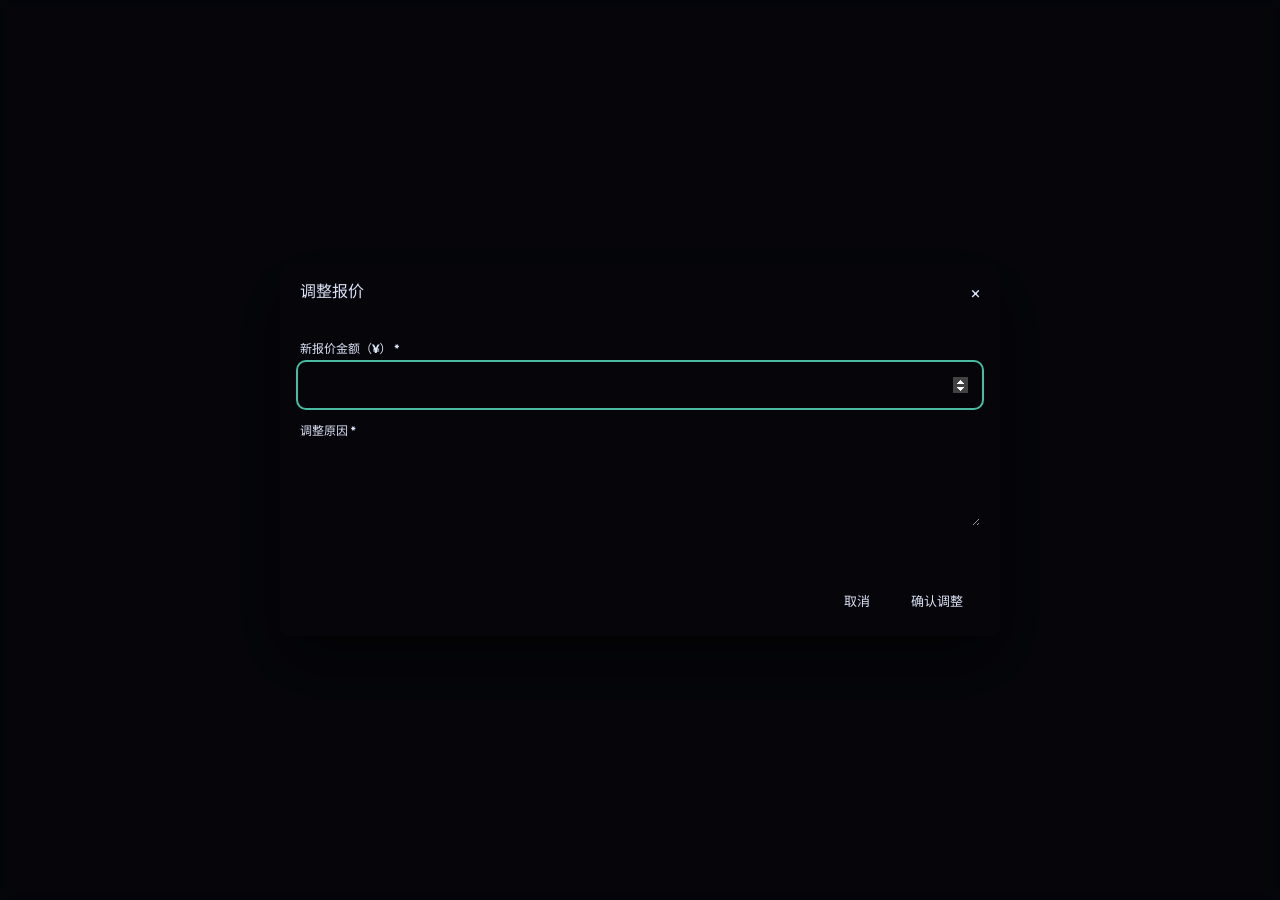
Test case: QuoteChangeDialog › 填写金额但空原因 → 显示"请填写调整原因"
Type "9000" into the number field labelled "新报价金额（¥） *".
click(640, 385); type("9000")  # box [300,364,980,406]
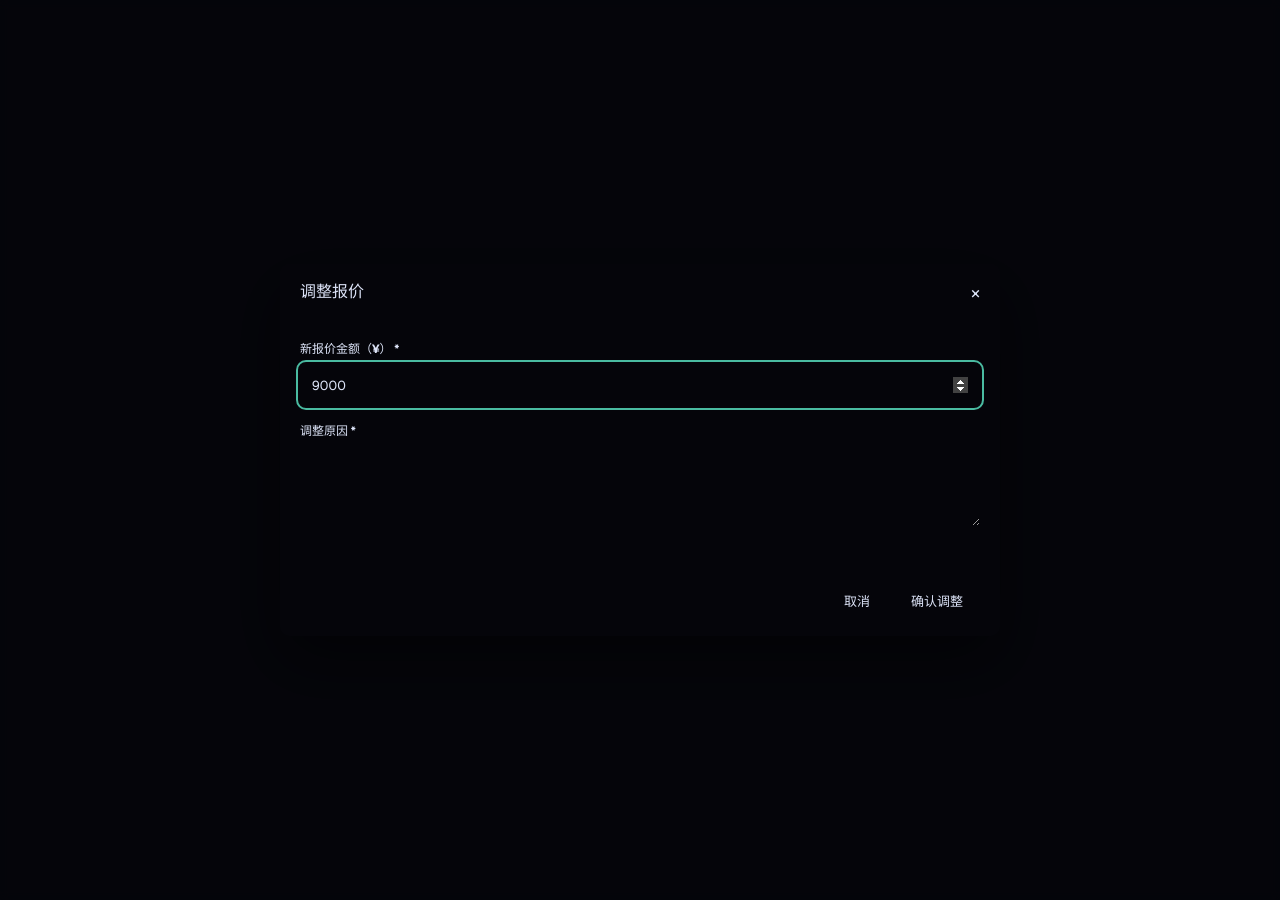
Click the button "确认调整".
click(937, 602)  # box [894,584,980,620]
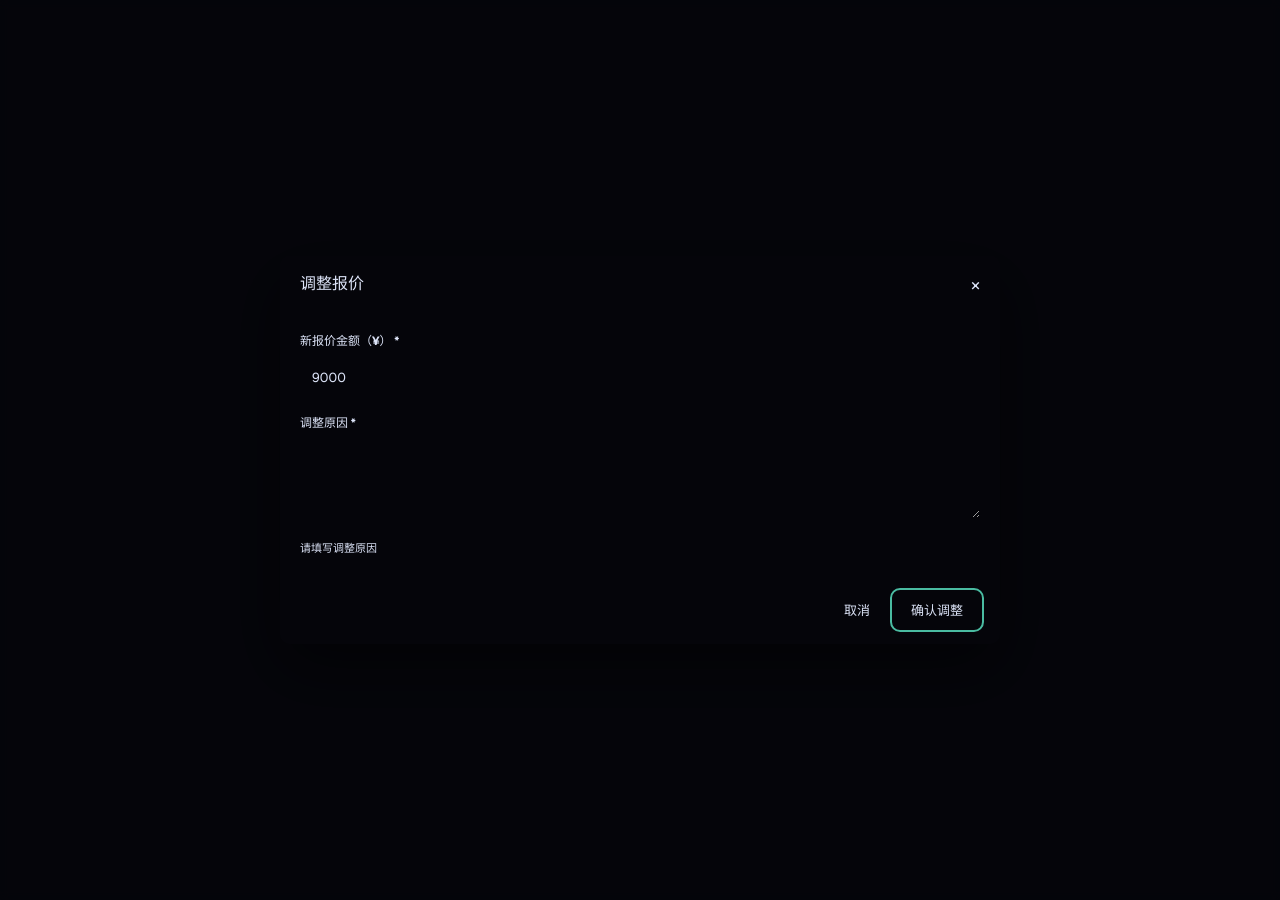
Now the text "请填写调整原因" is shown, box [300,540,377,554]
